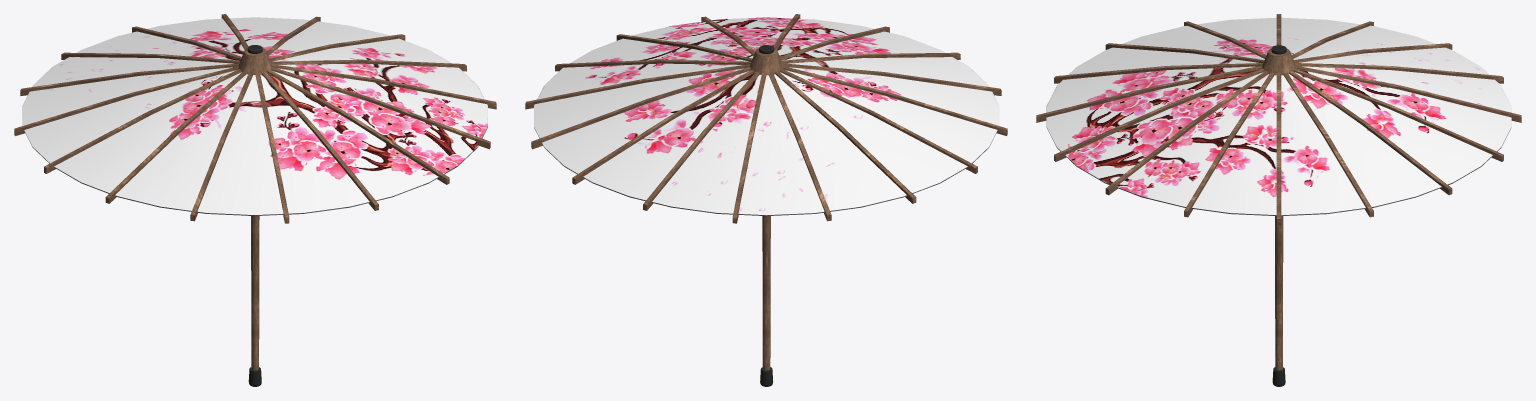
Rendered from SM_umbrella_01.fbx.
3 renders of one model, left to right at view 1: azimuth 30°, elevation 25°; view 2: azimuth 150°, elevation 25°; view 3: azimuth 270°, elevation 25°, orthographic.
Visible parts, largest first — view 1: SM_umbrella_01; view 2: SM_umbrella_01; view 3: SM_umbrella_01.
Part boxes in pixels (<box>): SM_umbrella_01: <box>14,14,496,386</box>; SM_umbrella_01: <box>525,14,1007,386</box>; SM_umbrella_01: <box>1036,14,1521,386</box>.
Size of the model in its own units: 174 by 174 by 133.
1 material, 1 textured.
